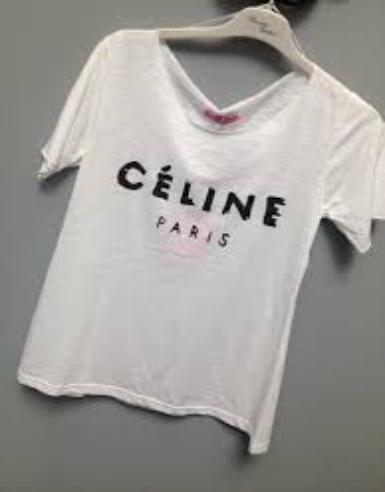CELINE: (109, 155, 285, 231)
